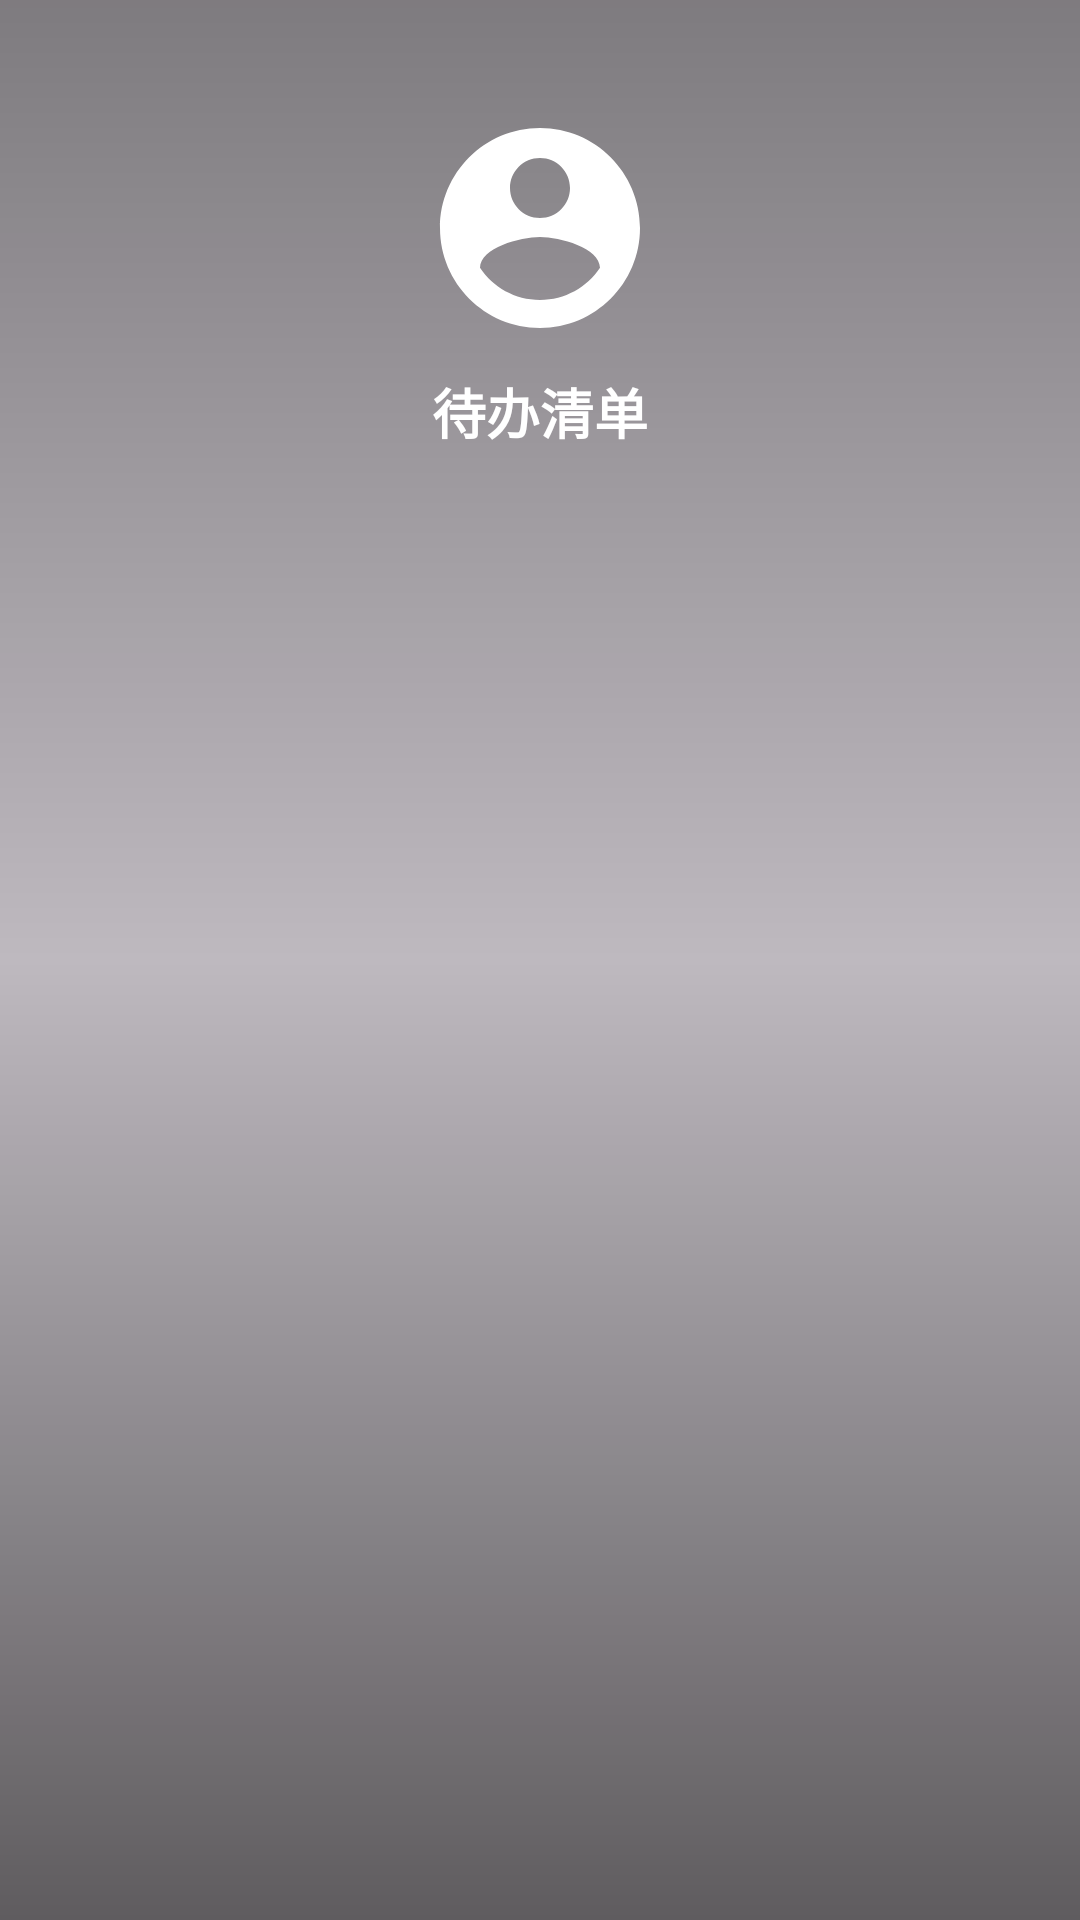

Named icons in this screenshot (1080×1920) and their centers, (x,y):
account circle: (540,228)
